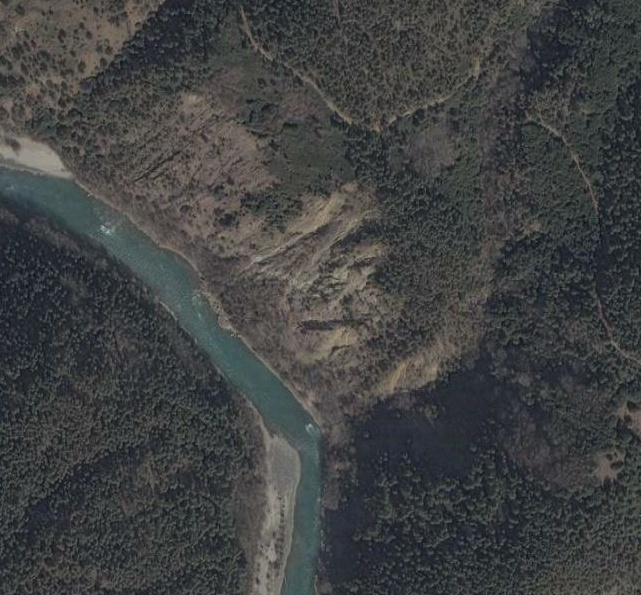slope: (224, 178, 444, 436), (255, 436, 299, 594), (0, 132, 70, 177)
